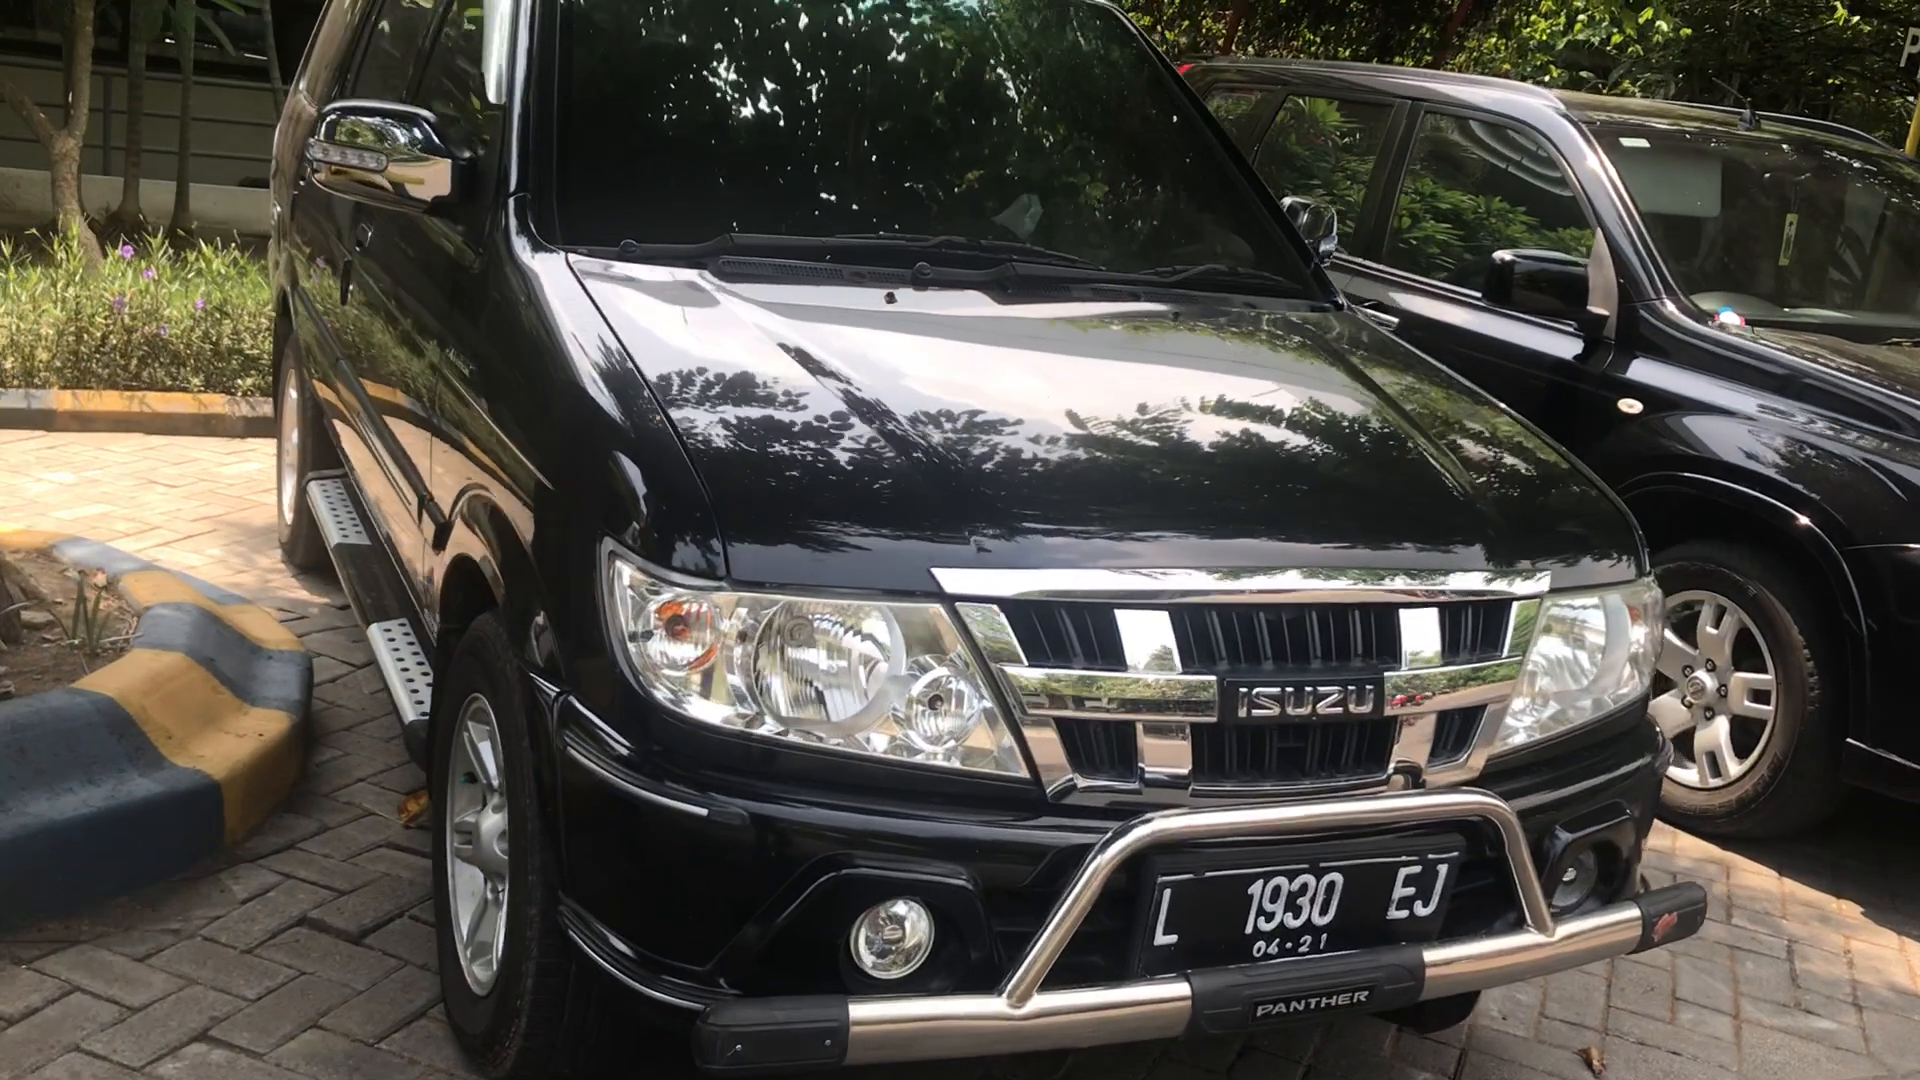plate: (1155, 835, 1460, 960)
